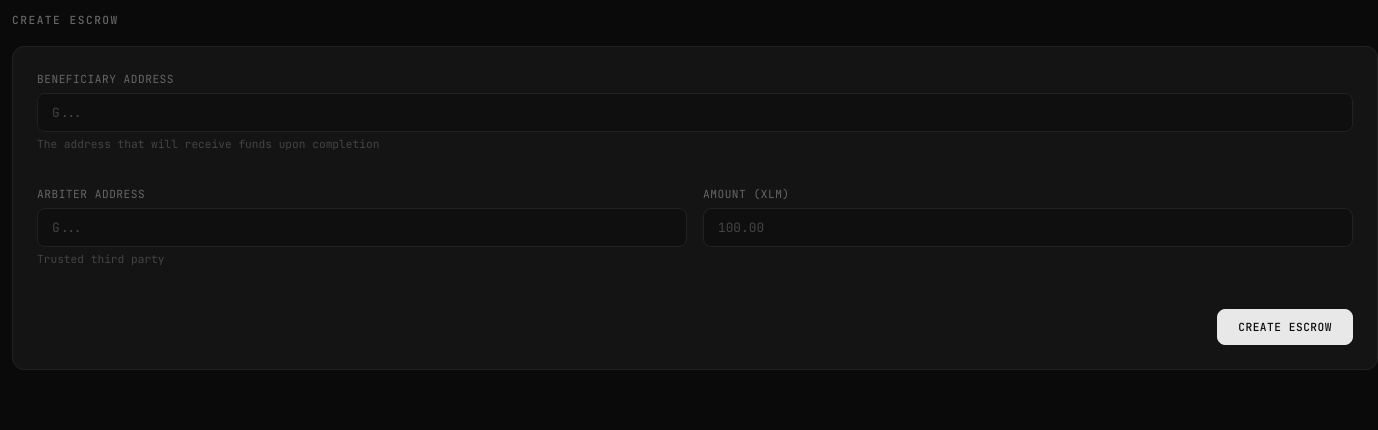
Scenario: EscrowForm › shows validation error for invalid address format
Type "invalid_address" into the field labelled "Beneficiary Address" at (695, 112), box [37,93,1353,132]
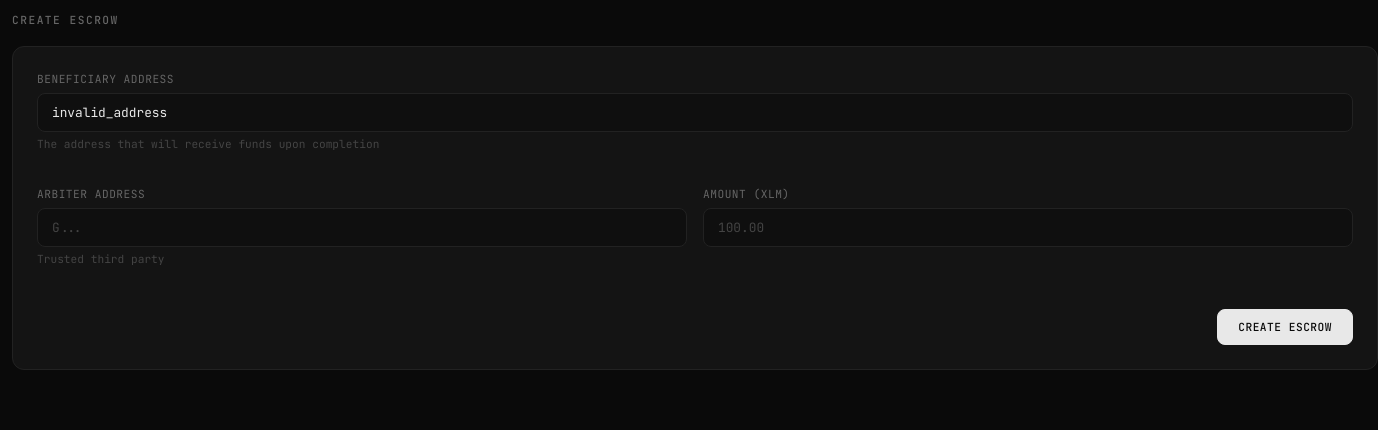
Type "invalid_address" into the field labelled "Arbiter Address" at (362, 227), box [37,208,687,247]
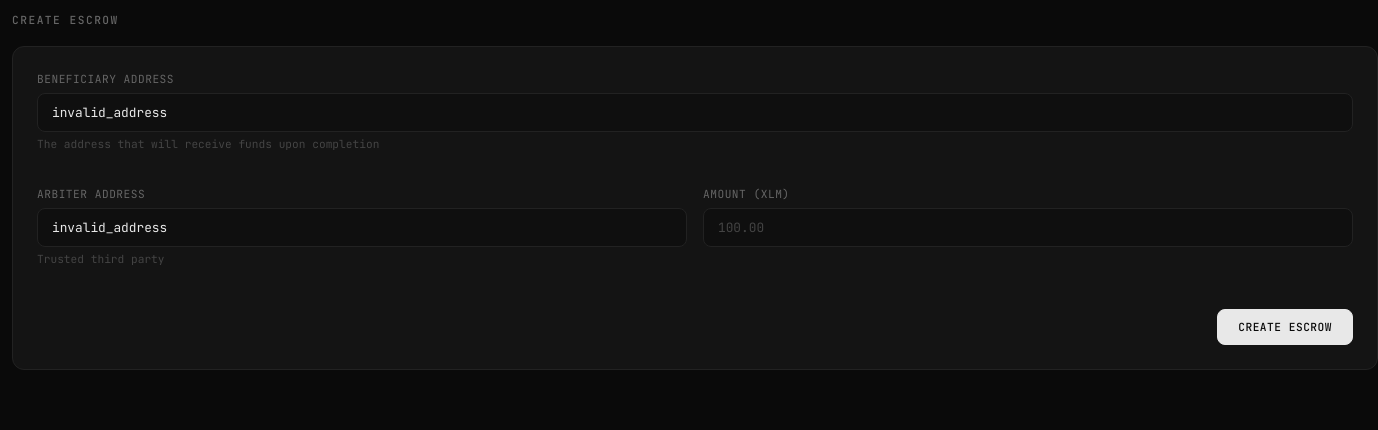
Type "100" into the number field labelled "Amount (XLM)" at (1028, 227), box [703,208,1353,247]
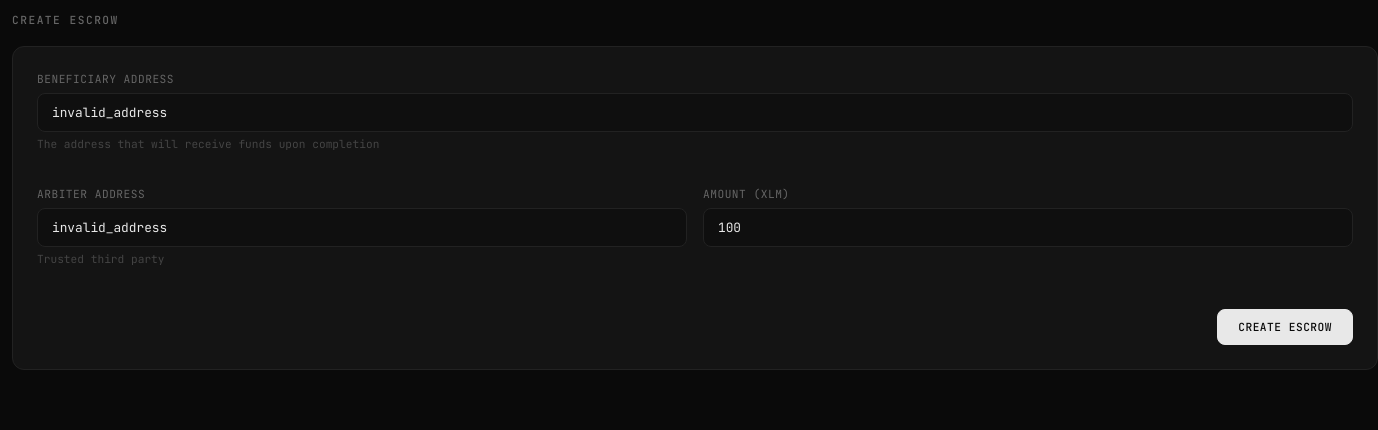
Click the button "Create Escrow" at (1285, 327), box [1217,309,1353,345]
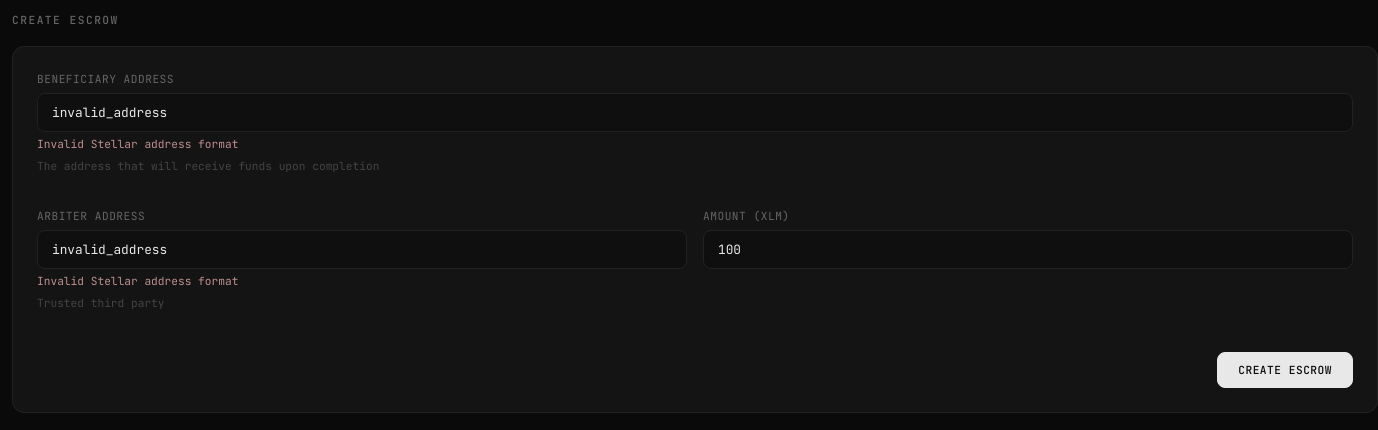
expect the text "Invalid Stellar address format" is shown 2 times: met, box [37,137,238,151]; [37,274,238,288]
